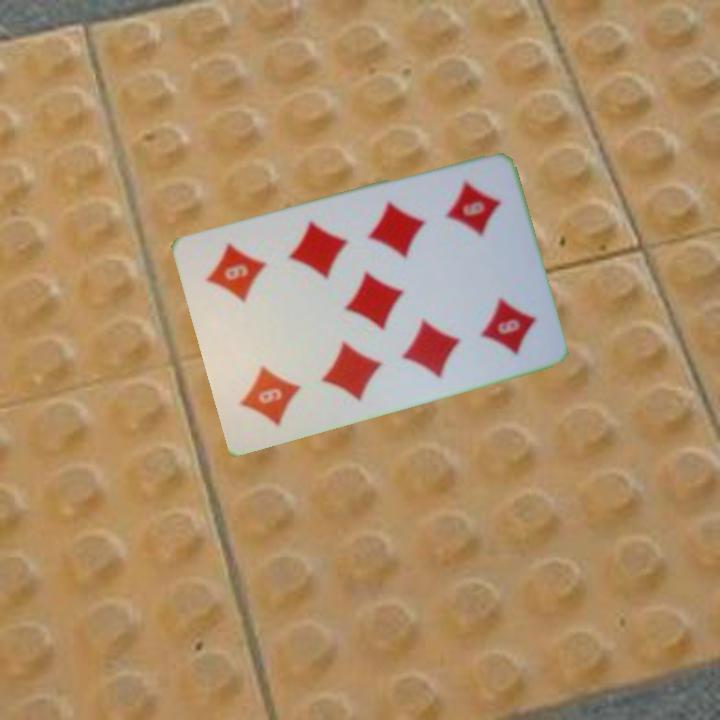d_9.png: (417, 165, 525, 283), (215, 319, 323, 437)
